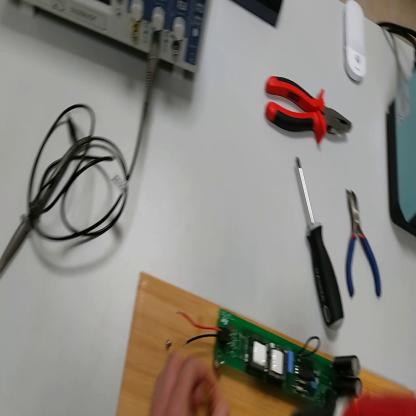electric screwdriver: (298, 383, 416, 415)
hand: (152, 352, 217, 415)
high voltage board: (182, 309, 364, 406)
oscilloscope: (3, 3, 210, 81)
oscilloscope probe tip: (2, 135, 91, 272)
pliers: (266, 72, 353, 145), (344, 190, 382, 301)
screwdriver-: (298, 160, 345, 329)
welder station: (387, 75, 416, 234)
working area: (121, 270, 383, 416)
